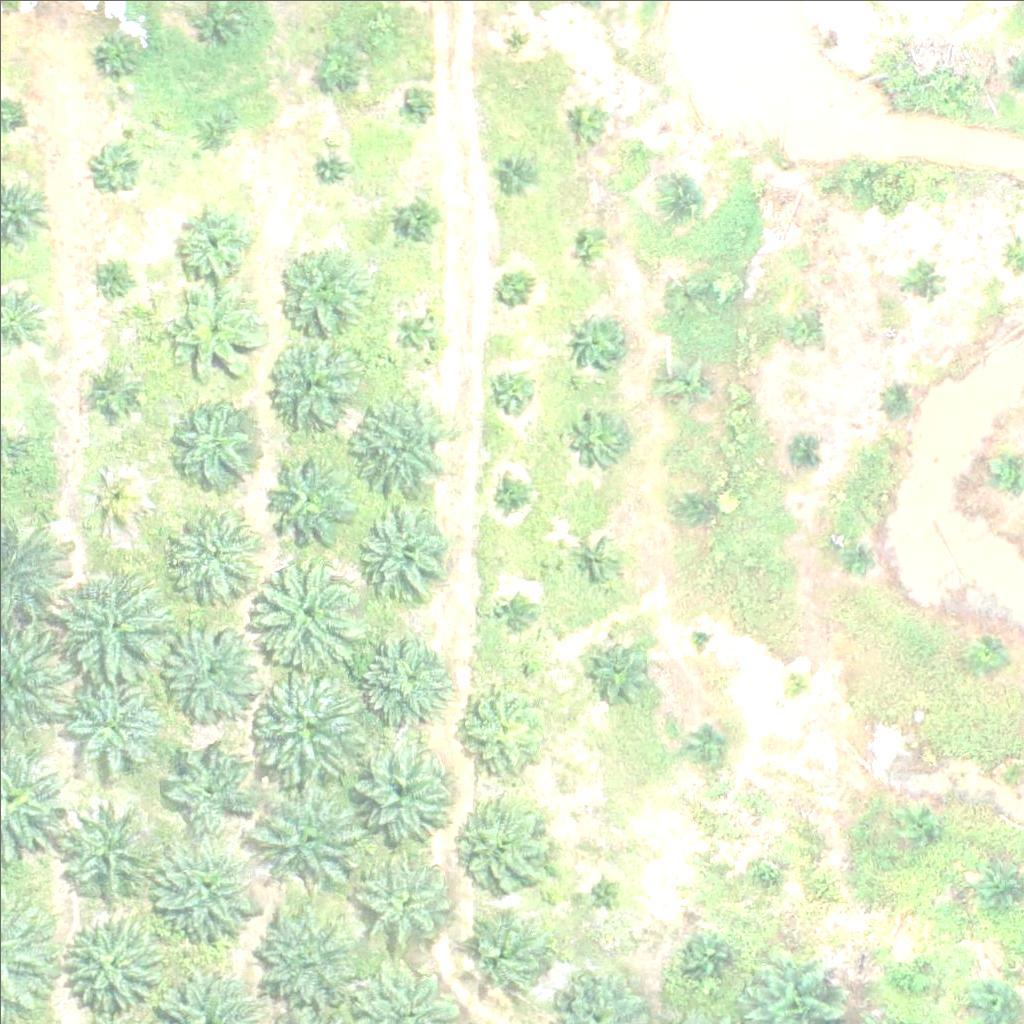Kelapa_Sawit: (247, 663, 372, 788), (247, 544, 372, 669), (52, 564, 165, 677), (147, 829, 260, 942), (250, 898, 363, 1011), (253, 780, 366, 893), (61, 675, 161, 776), (157, 729, 257, 830), (162, 620, 262, 721), (359, 859, 459, 960), (348, 742, 448, 843), (351, 623, 451, 724), (354, 495, 454, 596), (456, 904, 556, 1005), (454, 798, 554, 899), (449, 677, 549, 778), (164, 285, 264, 386), (346, 393, 446, 494), (64, 914, 164, 1014), (55, 806, 155, 906), (163, 503, 251, 592), (169, 197, 257, 285), (278, 248, 366, 336), (266, 340, 354, 428), (259, 453, 347, 541), (170, 408, 257, 496), (591, 634, 654, 697), (565, 307, 627, 370), (685, 932, 735, 983), (574, 416, 624, 467), (561, 92, 611, 143), (658, 359, 708, 410), (86, 368, 136, 418), (92, 139, 142, 189), (89, 25, 139, 75), (185, 107, 235, 157), (312, 37, 362, 87), (393, 197, 443, 247), (85, 468, 135, 518), (390, 306, 440, 356), (485, 370, 535, 420), (680, 487, 718, 525), (888, 959, 926, 997), (897, 808, 935, 846), (745, 852, 783, 890), (583, 871, 621, 909), (777, 662, 815, 700), (486, 593, 524, 631), (570, 221, 608, 258), (493, 476, 530, 514), (575, 543, 612, 581), (780, 433, 818, 470), (905, 257, 942, 295), (663, 275, 701, 312), (491, 272, 528, 310), (694, 723, 731, 761), (495, 149, 532, 186), (663, 177, 700, 214), (883, 385, 920, 422), (786, 307, 823, 344), (966, 640, 1003, 677), (835, 542, 872, 579), (406, 91, 431, 116), (501, 22, 526, 47), (96, 265, 121, 290), (687, 626, 712, 651), (319, 155, 343, 180)
